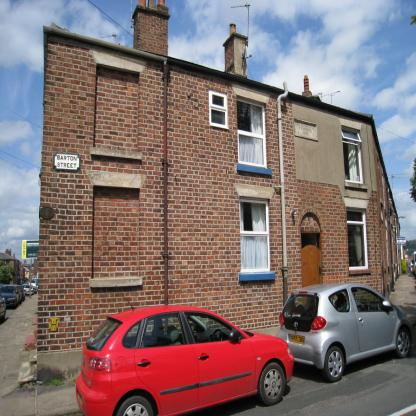Car: (74, 305, 296, 416), (278, 283, 413, 384), (1, 277, 41, 321), (411, 253, 416, 278)
